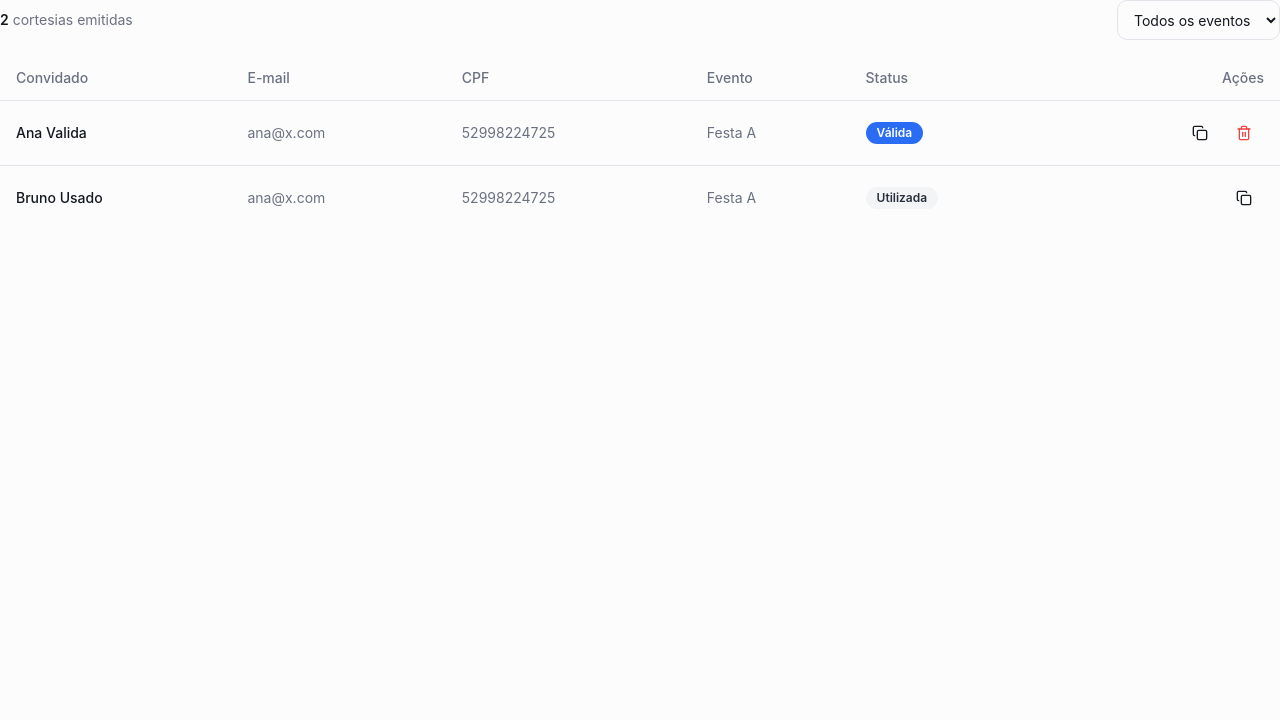
Test: Aba Cortesias do produtor — nunca mostra cortesias 'admin' › revogar pede confirmação, exclui só a cortesia 'organizer' e atualiza a lista
This screenshot has width=1280, height=720.
Expected: the text "Ana Valida" is shown, [0,100,231,166]
Click the button named "Revogar cortesia de Ana Valida": (1244, 133) [1224,113,1264,153]
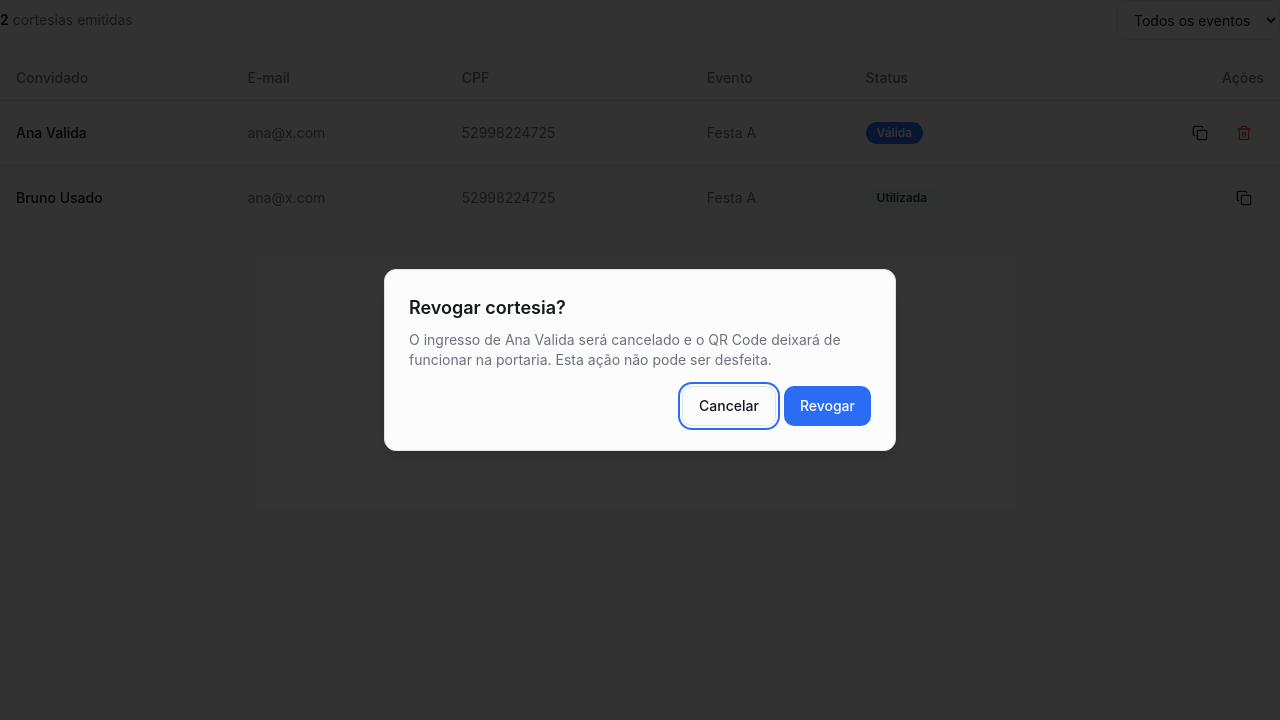
Expected: the text "QR Code deixará de funcionar" is shown, [409,331,841,368]
Click the button "Revogar": (827, 406) [784,386,871,426]
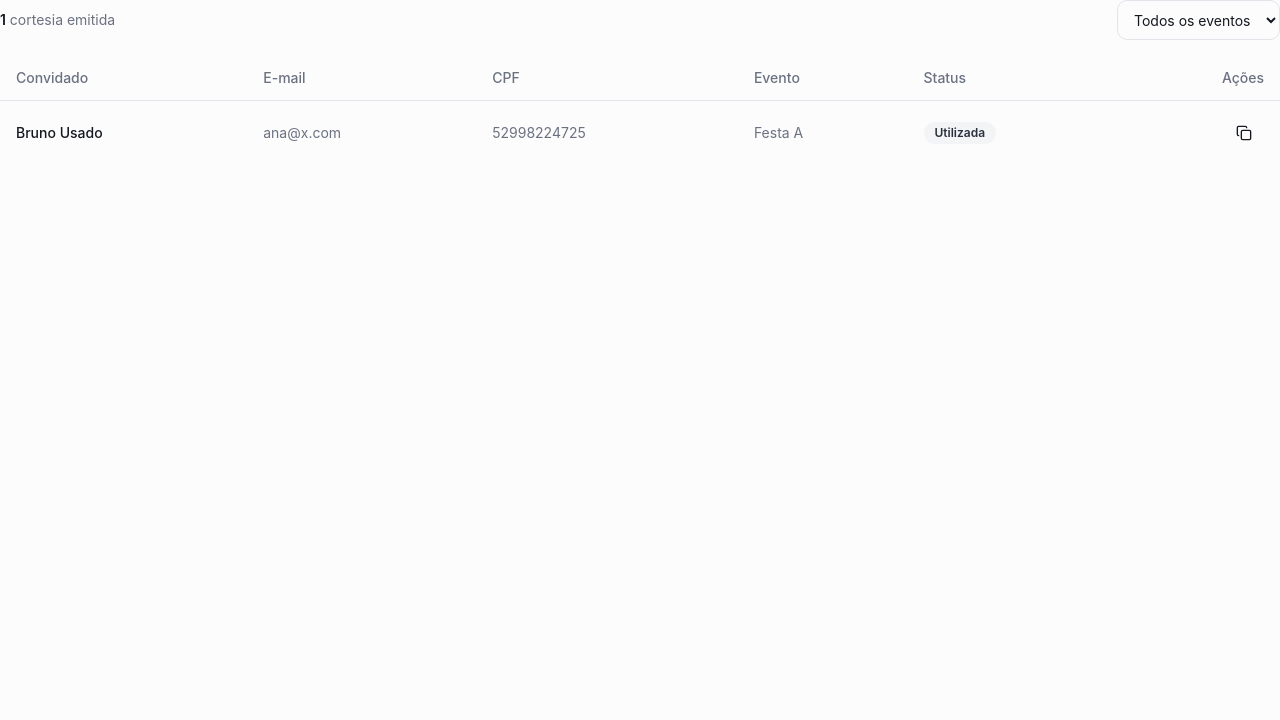
Expected: the text "Ana Valida" is gone
